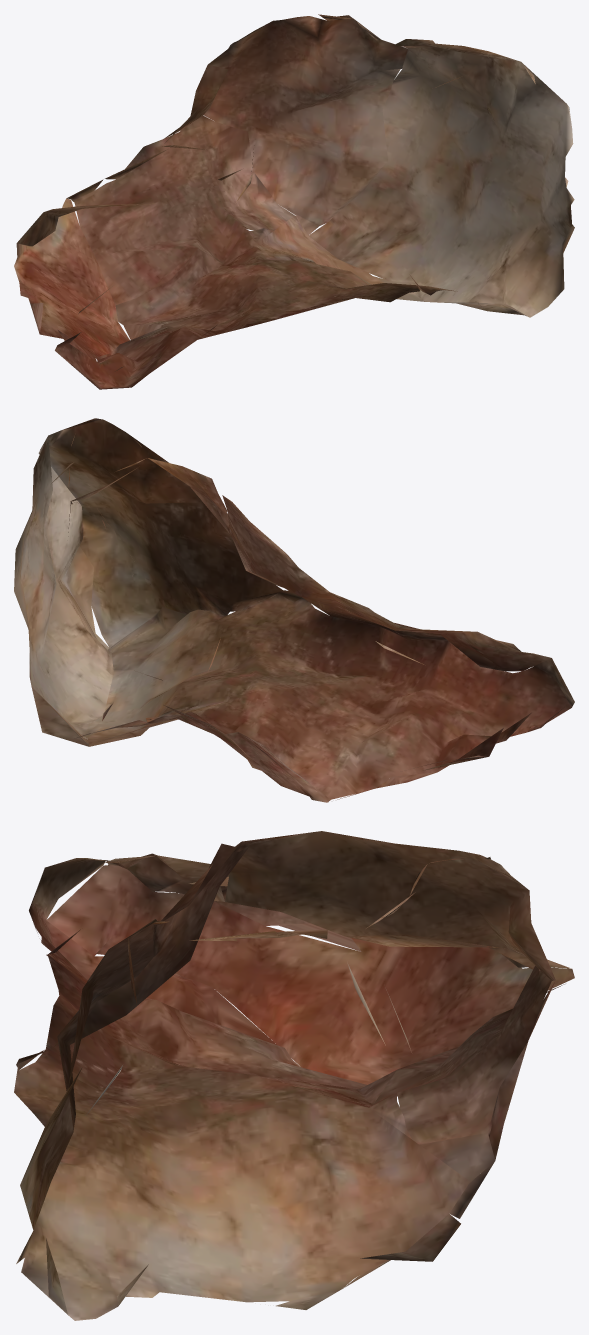
File: veg-rock-border-30009f3ab705.glb
The picture shows the model from 3 angles, top to bottom: view 1: azimuth 30°, elevation 25°; view 2: azimuth 150°, elevation 25°; view 3: azimuth 270°, elevation 25°; orthographic projection. The views are drawn at different scales.
Parts seen in each view (by area): view 1: veg-rock-border; view 2: veg-rock-border; view 3: veg-rock-border.
Boxes of the visible parts, x1,y1,x2,y2 form: veg-rock-border: (14, 14, 574, 389); veg-rock-border: (14, 418, 574, 802); veg-rock-border: (14, 831, 574, 1320).
Bounding box in the file's own units: 0.4561 × 0.22 × 0.2764.
Materials: 1 (1 with a texture image).
